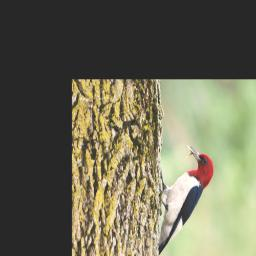Woodpecker: (159, 146, 214, 254)
